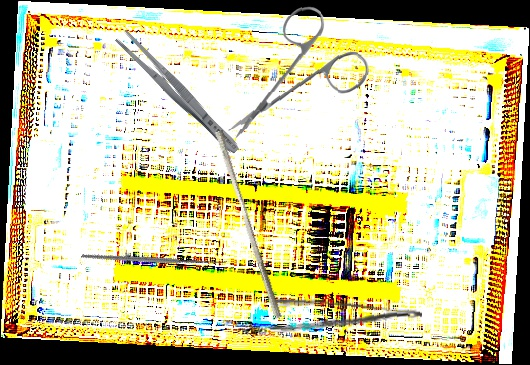Dressing Forceps: (113, 27, 244, 159), (267, 295, 423, 345)
Hook Surgical: (80, 187, 231, 326)
Iris Scissors: (228, 2, 372, 145)
Pusher: (208, 129, 290, 320)
